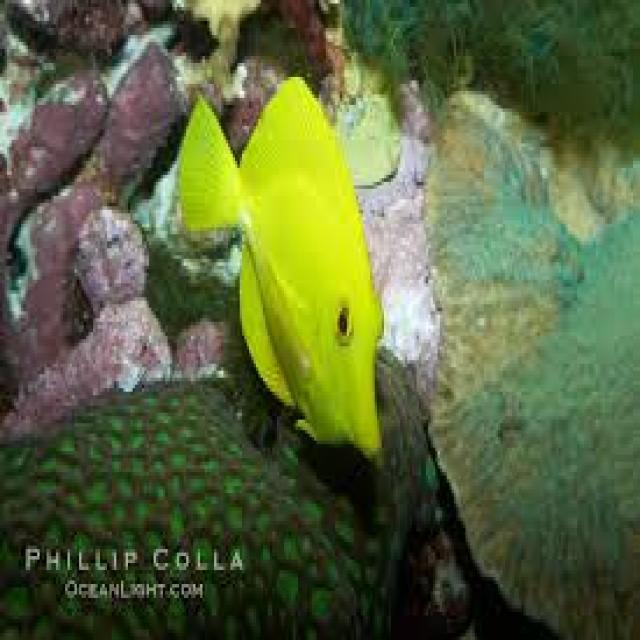YellowTang: (168, 67, 403, 477)
